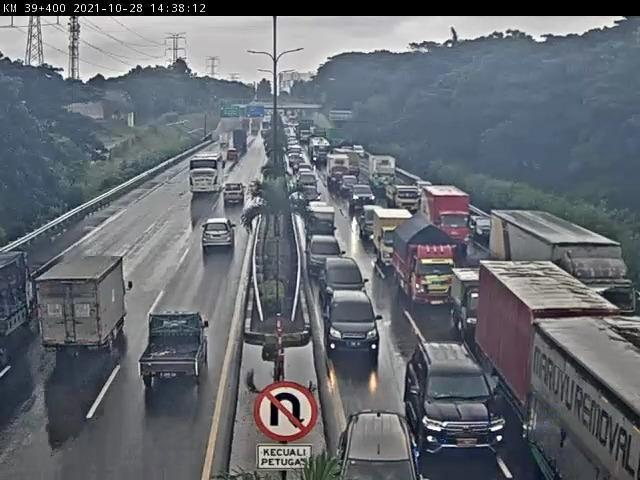Bus: (180, 154, 228, 195)
